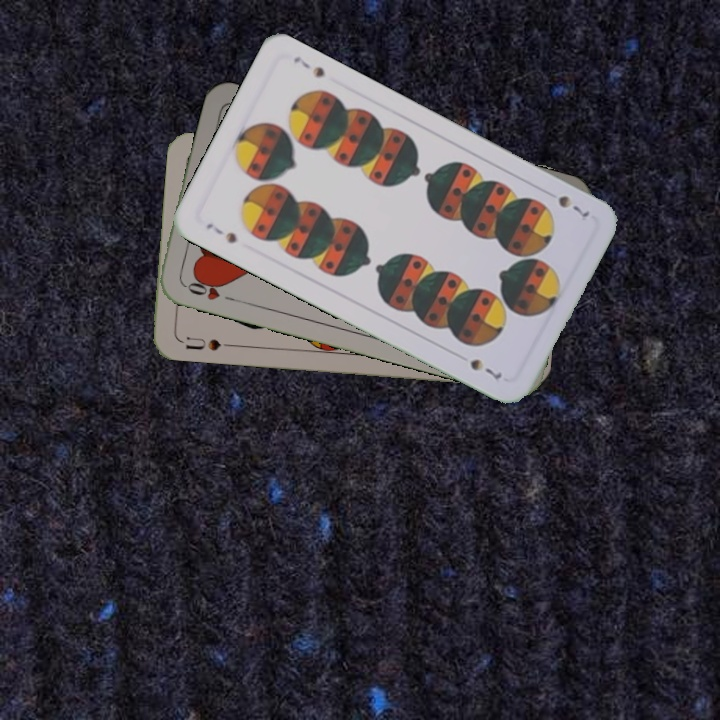HO: (179, 272, 237, 304)
S7: (554, 191, 593, 222), (202, 219, 239, 247)
SU: (182, 333, 235, 353)
